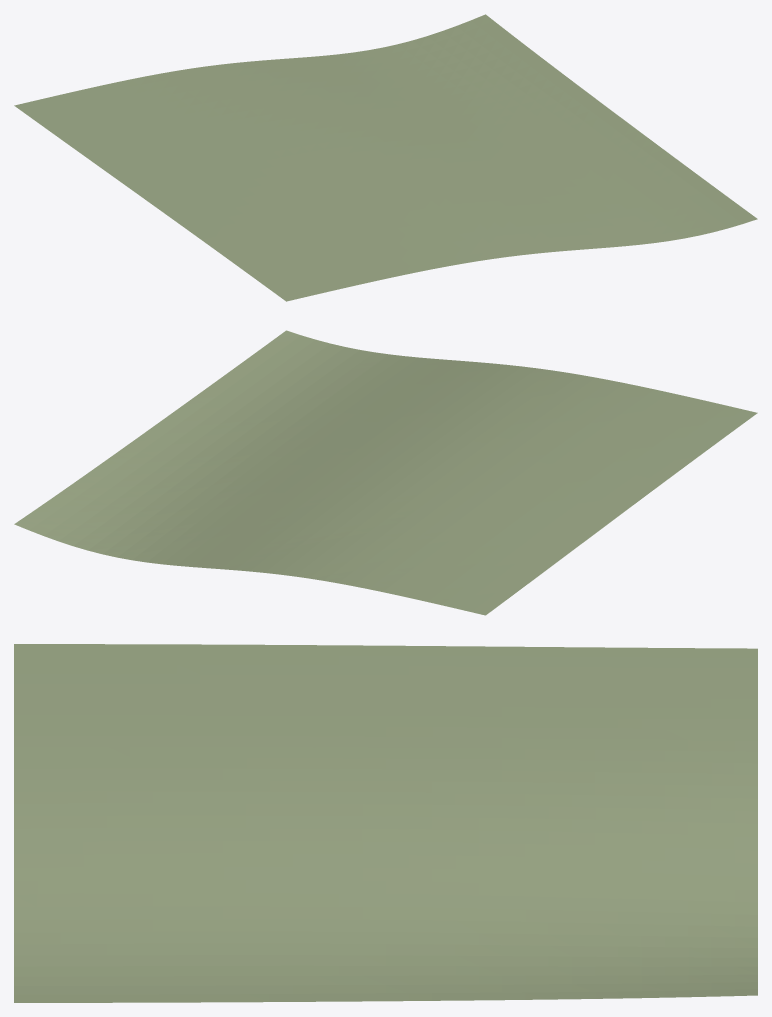
File: desert-13-2.glb
The picture shows the model from 3 angles, top to bottom: view 1: azimuth 30°, elevation 25°; view 2: azimuth 150°, elevation 25°; view 3: azimuth 270°, elevation 25°; orthographic projection. The views are drawn at different scales.
Parts seen in each view (by area): view 1: desert-13-2; view 2: desert-13-2; view 3: desert-13-2.
Part boxes in pixels (box(x1,y1,x2,y2)): desert-13-2: box(14, 14, 757, 301); desert-13-2: box(14, 330, 757, 615); desert-13-2: box(14, 644, 757, 1002).
Bounding box in the file's own units: 512 × 36.94 × 512.
